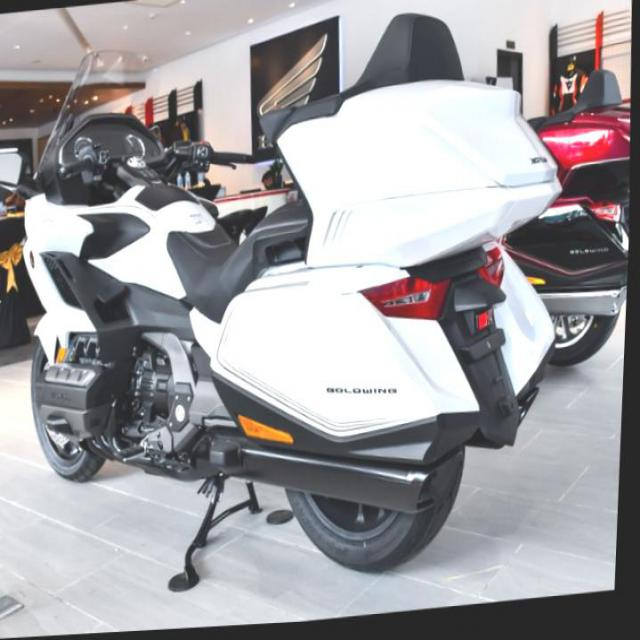Gold Wing: (11, 3, 576, 610)
